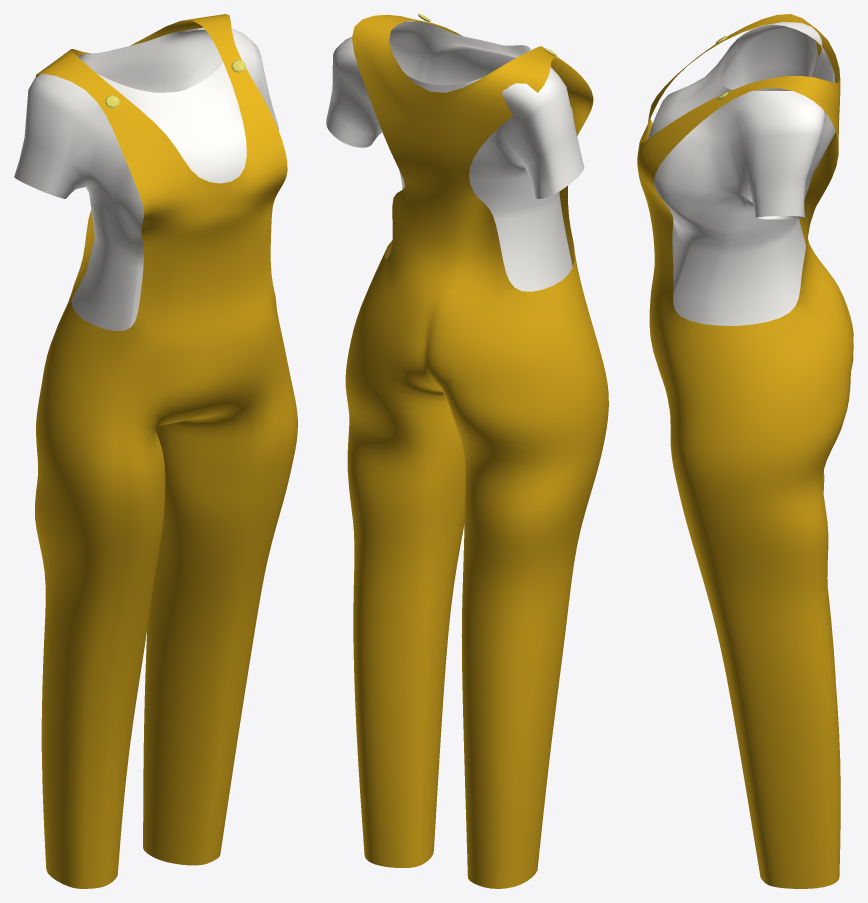
3 views of the same model, side by side, from view 1: azimuth 30°, elevation 25°; view 2: azimuth 150°, elevation 25°; view 3: azimuth 270°, elevation 25° (orthographic). The views are drawn at different scales.
Visible parts, largest first — view 1: face.001, face.005; view 2: face.001, face.005; view 3: face.001, face.005.
Boxes of the visible parts, x1,y1,x2,y2 form: face.001: (35,14,297,888); face.005: (14,27,278,330); face.001: (345,14,608,888); face.005: (326,21,584,291); face.001: (637,14,853,888); face.005: (647,22,835,325).
Bounding box in the file's own units: 0.385 × 1.21 × 0.2951.
